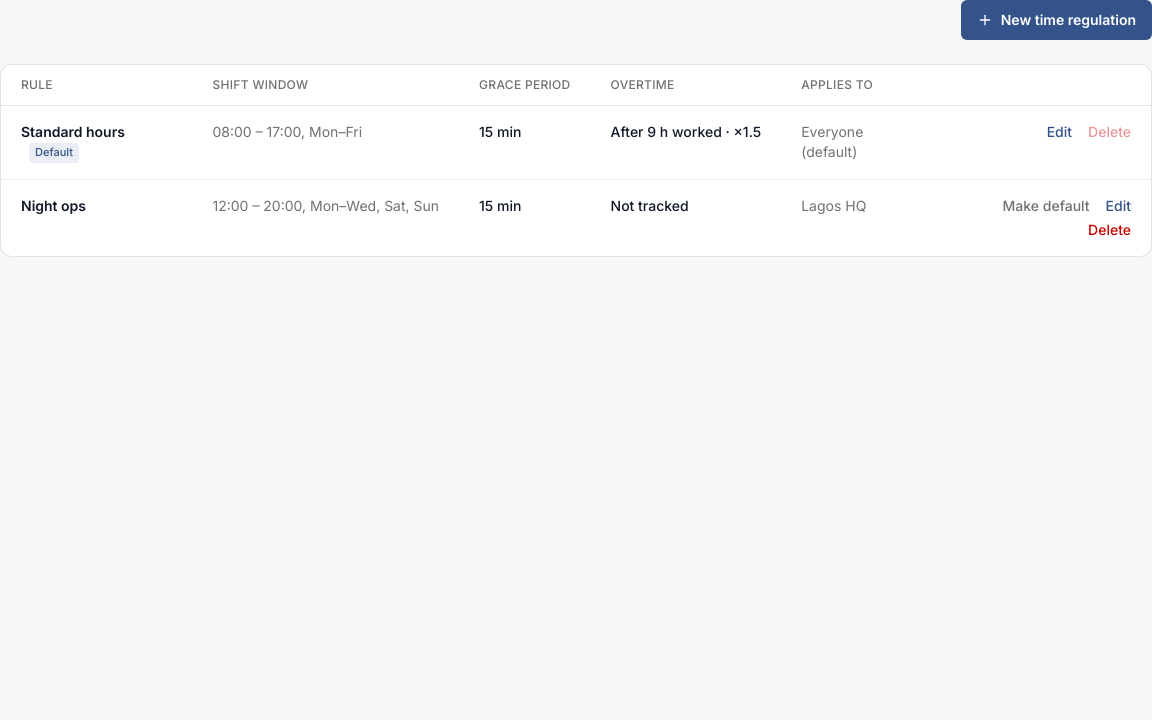
it: changing rules › keeps the form open with the server's reason when it refuses
Click the button "New time regulation" at (1056, 20), box 961,0 -> 1151,40
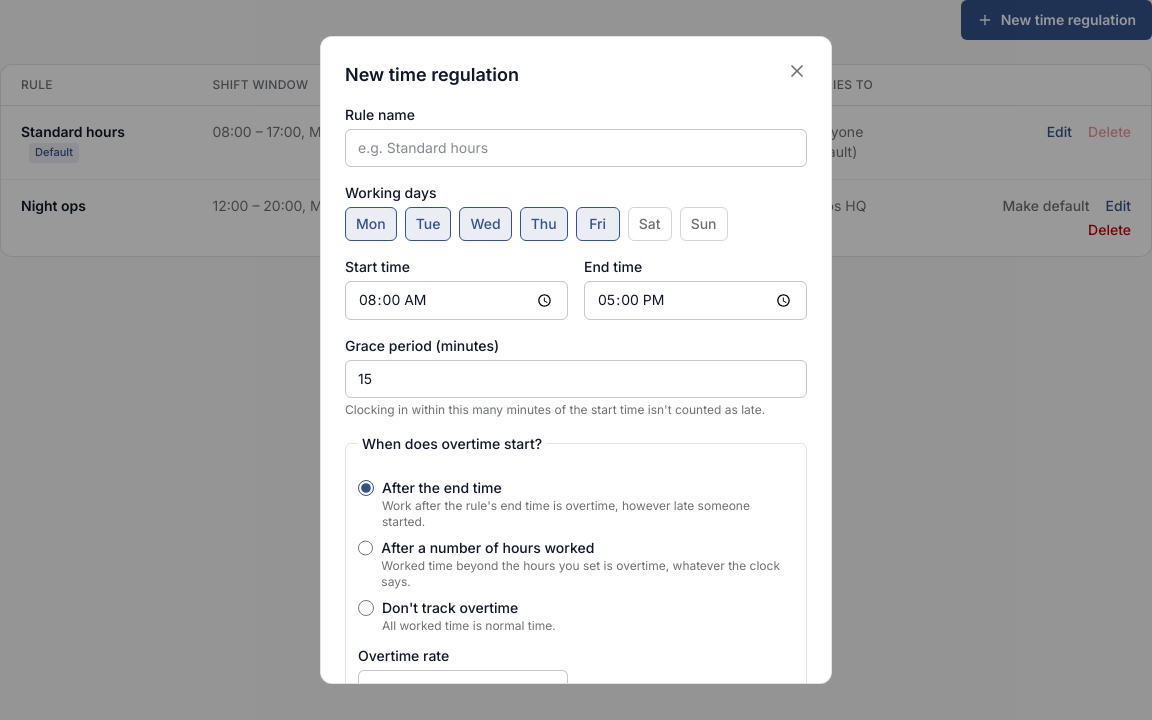
Type "Night ops" into the field labelled "Rule name" at (576, 148), box 345,129 -> 807,167
(page scrolled)
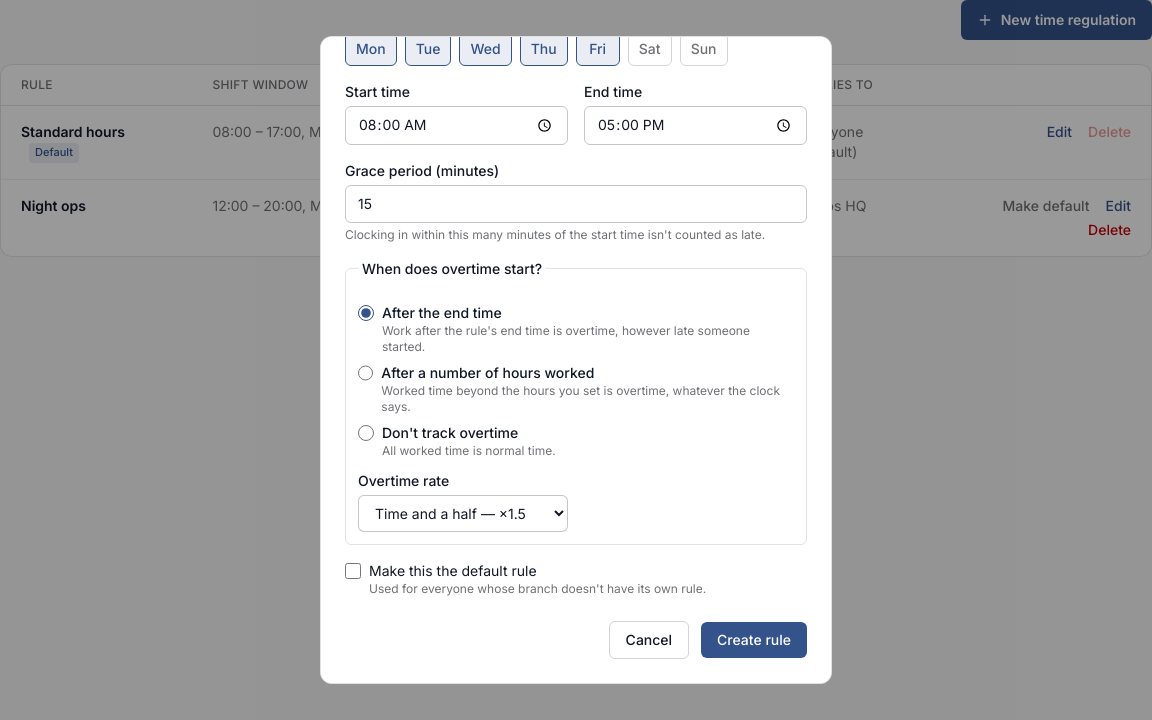
Click the button "Create rule" at (754, 640), box 701,622 -> 807,658
(page scrolled)
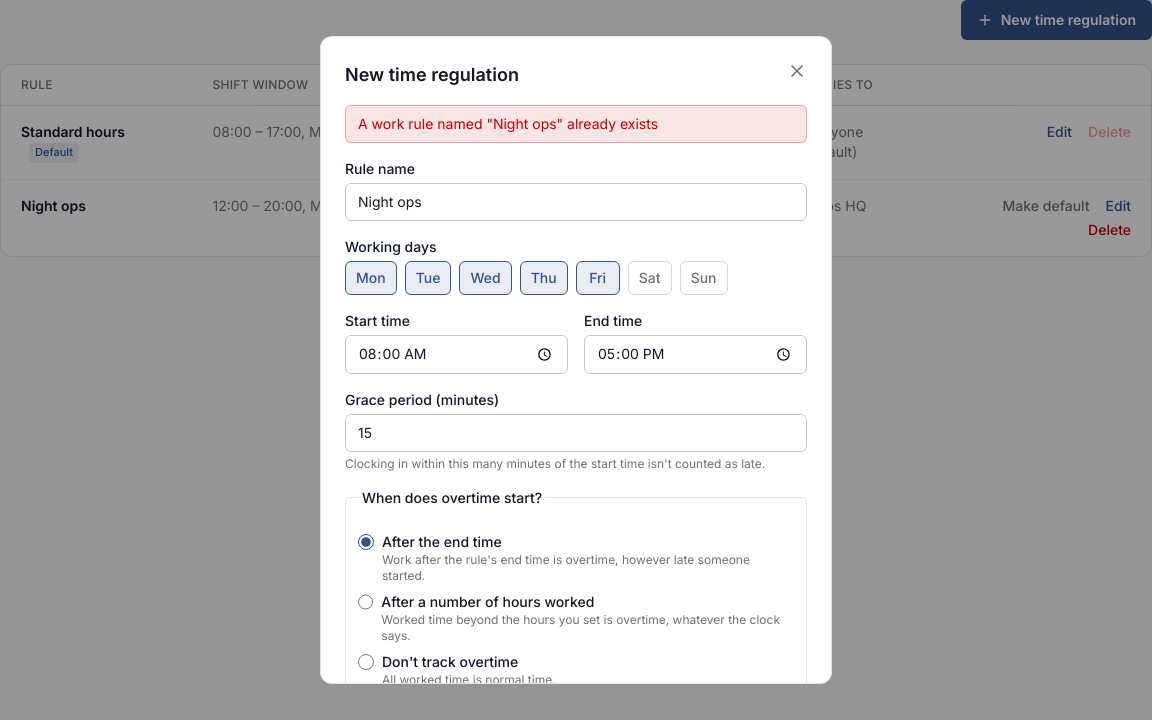
Expected: the text "A work rule named \"Night ops\" already exists" is shown, 345,105 -> 807,143
